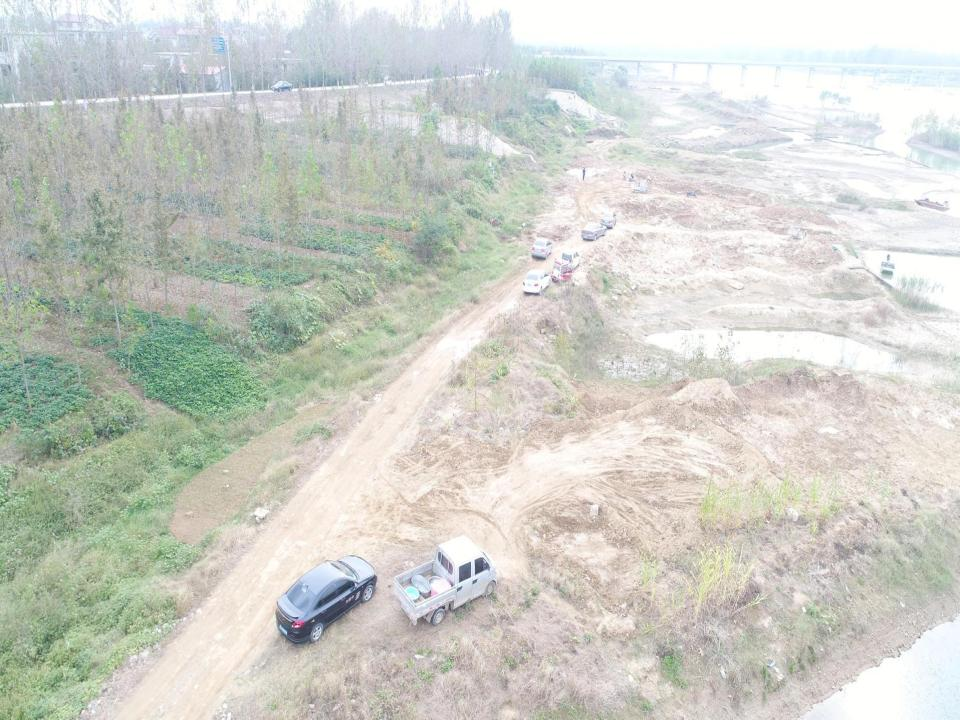car: (275, 555, 377, 643), (521, 269, 552, 296), (581, 222, 606, 240), (531, 238, 552, 259), (560, 250, 580, 272), (600, 210, 616, 228), (271, 81, 292, 92)
truck: (391, 535, 498, 626)
